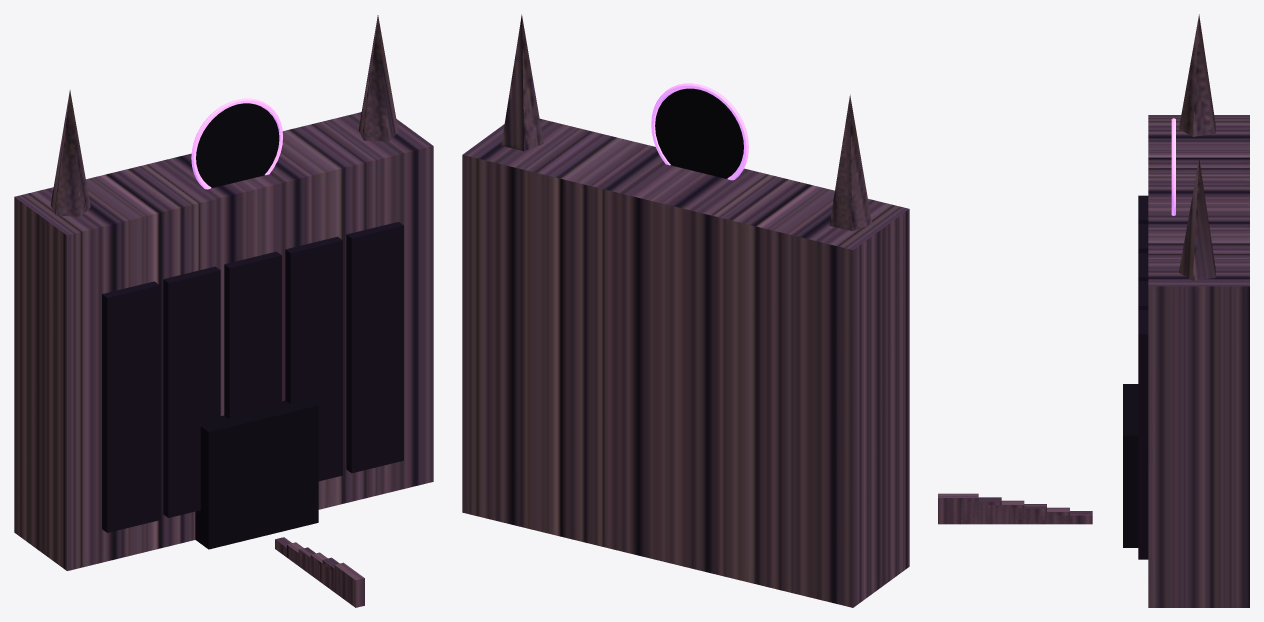
File: cathedralFacade.glb
3 views of the same model, side by side, from view 1: azimuth 30°, elevation 25°; view 2: azimuth 150°, elevation 25°; view 3: azimuth 270°, elevation 25° (orthographic). The views are drawn at different scales.
Parts seen in each view (by area): view 1: LOD0._kind_trim_band_obsidian_repeat, LOD0._color_120a1a_emissive_null_emis, LOD0._color_0a0510_emissive_null_emis, LOD0._color_05030a_emissive_null_emis, LOD0._color_a56cff_emissive_a56cff_; view 2: LOD0._kind_trim_band_obsidian_repeat, LOD0._color_05030a_emissive_null_emis, LOD0._color_a56cff_emissive_a56cff_; view 3: LOD0._kind_trim_band_obsidian_repeat, LOD0._color_120a1a_emissive_null_emis, LOD0._color_0a0510_emissive_null_emis, LOD0._color_a56cff_emissive_a56cff_.
Part boxes in pixels (left/top/right/bottom): LOD0._kind_trim_band_obsidian_repeat: left=14, top=15, right=433, bottom=607; LOD0._color_120a1a_emissive_null_emis: left=102, top=222, right=403, bottom=532; LOD0._color_0a0510_emissive_null_emis: left=195, top=399, right=318, bottom=549; LOD0._color_05030a_emissive_null_emis: left=196, top=103, right=279, bottom=187; LOD0._color_a56cff_emissive_a56cff_: left=191, top=98, right=282, bottom=189; LOD0._kind_trim_band_obsidian_repeat: left=462, top=14, right=909, bottom=607; LOD0._color_05030a_emissive_null_emis: left=655, top=88, right=743, bottom=178; LOD0._color_a56cff_emissive_a56cff_: left=651, top=83, right=748, bottom=180; LOD0._kind_trim_band_obsidian_repeat: left=938, top=14, right=1249, bottom=607; LOD0._color_120a1a_emissive_null_emis: left=1138, top=195, right=1148, bottom=559; LOD0._color_0a0510_emissive_null_emis: left=1123, top=384, right=1138, bottom=547; LOD0._color_a56cff_emissive_a56cff_: left=1171, top=118, right=1175, bottom=215.
Size of what is drawn, in the model's own units: 160 by 190 by 123.
Materials: 5 (5 with a texture image).
